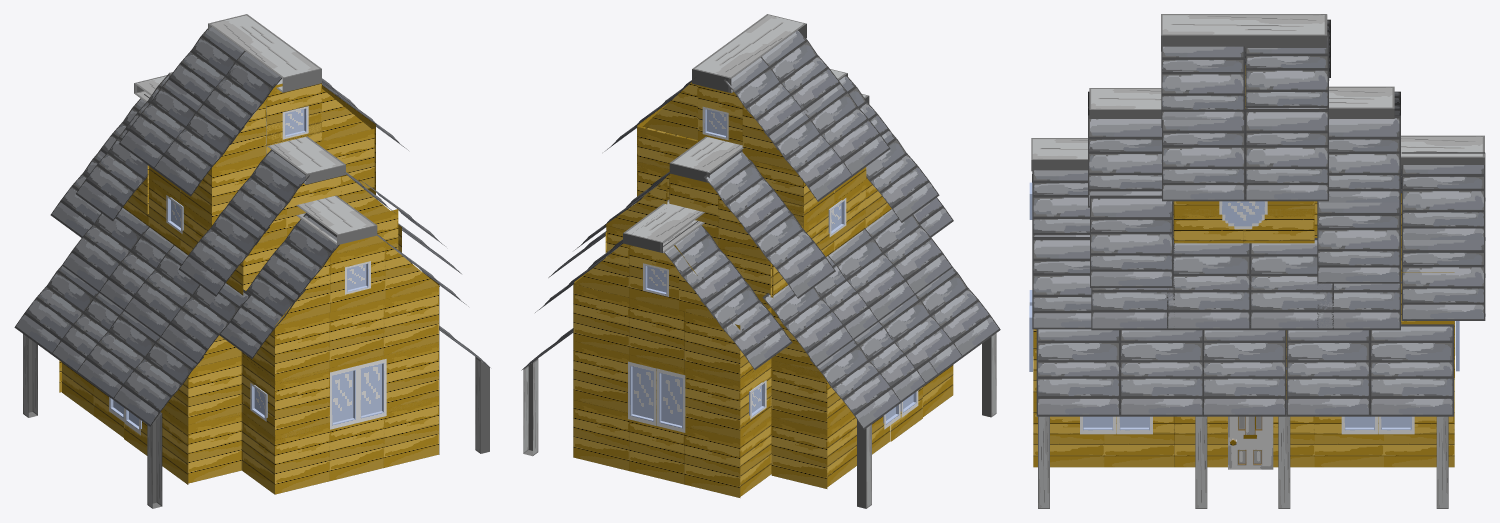
File: Judy's_House.fbx
3 views of the same model, side by side, from view 1: azimuth 30°, elevation 25°; view 2: azimuth 150°, elevation 25°; view 3: azimuth 270°, elevation 25° (orthographic). The views are drawn at different scales.
Visible parts, largest first — view 1: Plane.095, Plane.169, Plane.103, Plane.101, Plane.164, Plane.163, Plane.094, Plane.150, Plane.098, Plane.104, Plane.172, Plane.170 (+52 smaller); view 2: Plane.165, Plane.095, Plane.096, Plane.169, Plane.164, Plane.110, Plane.101, Plane.094, Plane.150, Plane.163, Plane.102, Plane.170 (+52 smaller); view 3: Plane.099, Plane.106, Plane.052, Plane.048, Plane.051, Plane.049, Plane.050, Plane.068, Plane.002, Plane.055, Plane.108, Plane.069 (+34 smaller).
Boxes of the visible parts, x1,y1,x2,y2 form: Plane.095: (112, 337, 203, 426); Plane.169: (153, 107, 244, 196); Plane.103: (178, 207, 269, 296); Plane.101: (14, 265, 98, 353); Plane.164: (160, 283, 251, 364); Plane.163: (62, 208, 148, 291); Plane.094: (76, 310, 159, 398); Plane.150: (208, 14, 321, 92); Plane.098: (226, 149, 309, 245); Plane.104: (259, 213, 339, 307); Plane.172: (200, 51, 281, 144); Plane.170: (119, 82, 200, 168); Plane.165: (828, 229, 914, 321); Plane.095: (915, 267, 1000, 357); Plane.096: (744, 209, 835, 298); Plane.169: (805, 87, 890, 176); Plane.164: (865, 209, 952, 294); Plane.110: (700, 281, 792, 369); Plane.101: (810, 340, 900, 429); Plane.094: (879, 295, 962, 384); Plane.150: (692, 14, 806, 93); Plane.163: (762, 285, 853, 366); Plane.102: (704, 150, 788, 246); Plane.170: (764, 114, 852, 201); Plane.099: (1245, 109, 1329, 201); Plane.106: (1090, 195, 1173, 287); Plane.052: (1370, 324, 1453, 416); Plane.048: (1036, 329, 1120, 416); Plane.051: (1286, 330, 1370, 416); Plane.049: (1120, 330, 1203, 416); Plane.050: (1202, 330, 1286, 416); Plane.068: (1167, 240, 1250, 330); Plane.002: (1162, 109, 1245, 201); Plane.055: (1317, 202, 1400, 283); Plane.108: (1401, 240, 1485, 320); Plane.069: (1250, 238, 1333, 330).
Bounding box in the file's own units: 838 × 939 × 942.
189 materials, 189 textured.
